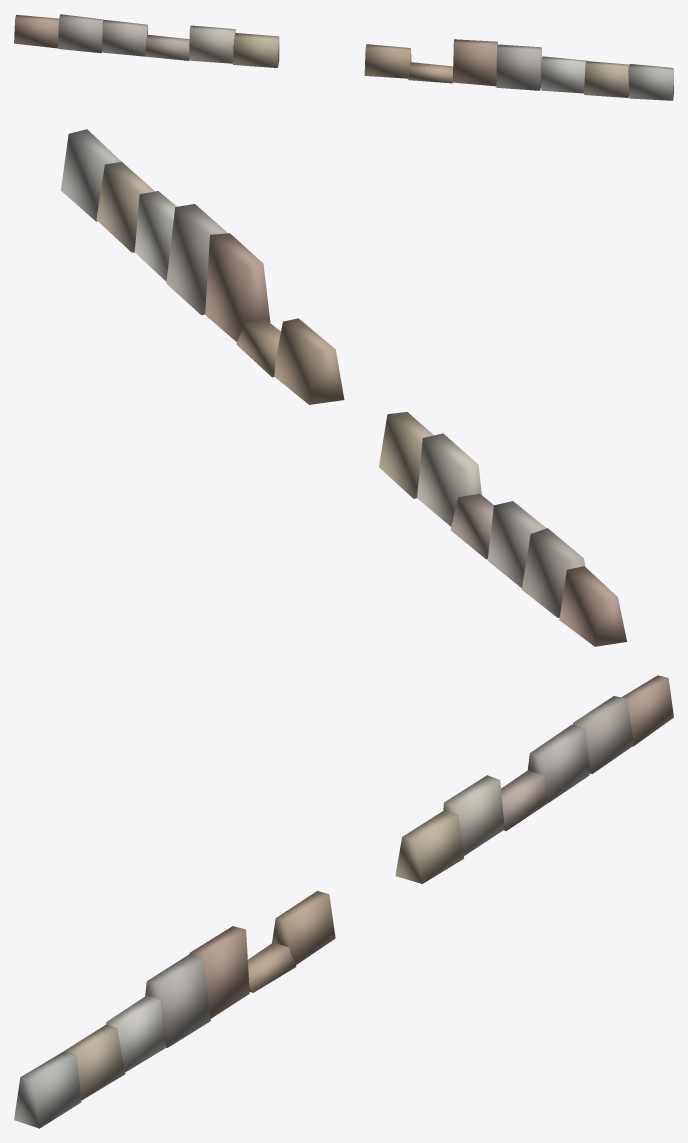
Rendered from farm_10_22_far.glb.
The picture shows the model from 3 angles, top to bottom: view 1: azimuth 30°, elevation 25°; view 2: azimuth 150°, elevation 25°; view 3: azimuth 270°, elevation 25°; orthographic projection. The views are drawn at different scales.
Visible parts, largest first — view 1: geometry_0; view 2: geometry_0; view 3: geometry_0.
Boxes of the visible parts, <box> form: geometry_0: <box>14,14,673,100</box>; geometry_0: <box>61,129,626,646</box>; geometry_0: <box>14,675,673,1128</box>.
Bounding box in the file's own units: 19.25 × 2.07 × 14.35.
